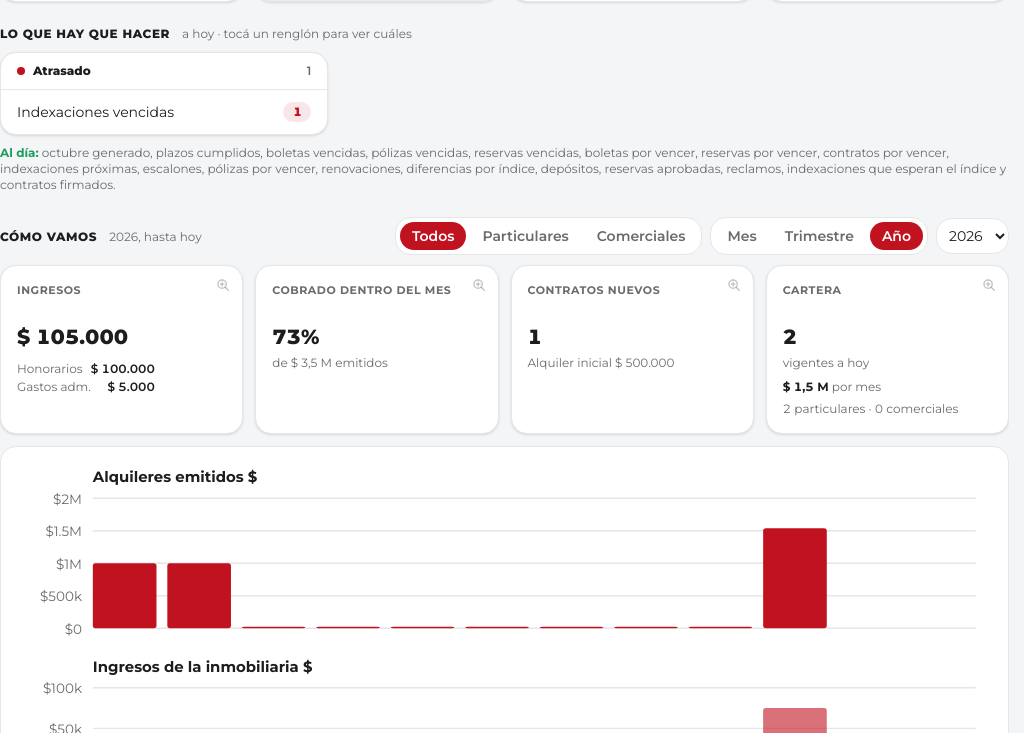
Test case: TableroAlquileres en tres bloques (17/10/2026) › Cómo vamos › regla 188: «Cobrado dentro del mes» abre la cuenta mes por mes, sin pedir nada, con el total recalculado sobre los totales: el de la tarjeta
(page scrolled)
Click the button with aria-label "Cobrado dentro del mes: 73%".
click(377, 349)  # box [256,266,498,433]
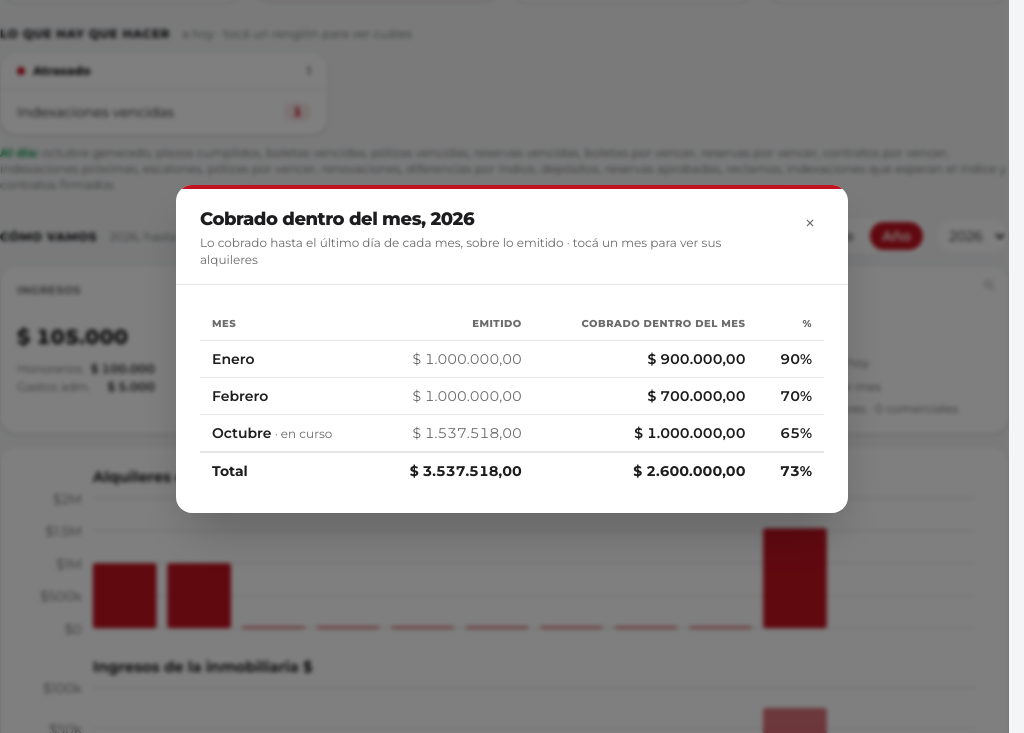
Check: the column headings read "Mes", "Emitido", "Cobrado dentro del mes", "%", in this order, box [200,309,372,340]; [372,309,534,340]; [534,309,758,340]; [758,309,824,340]
